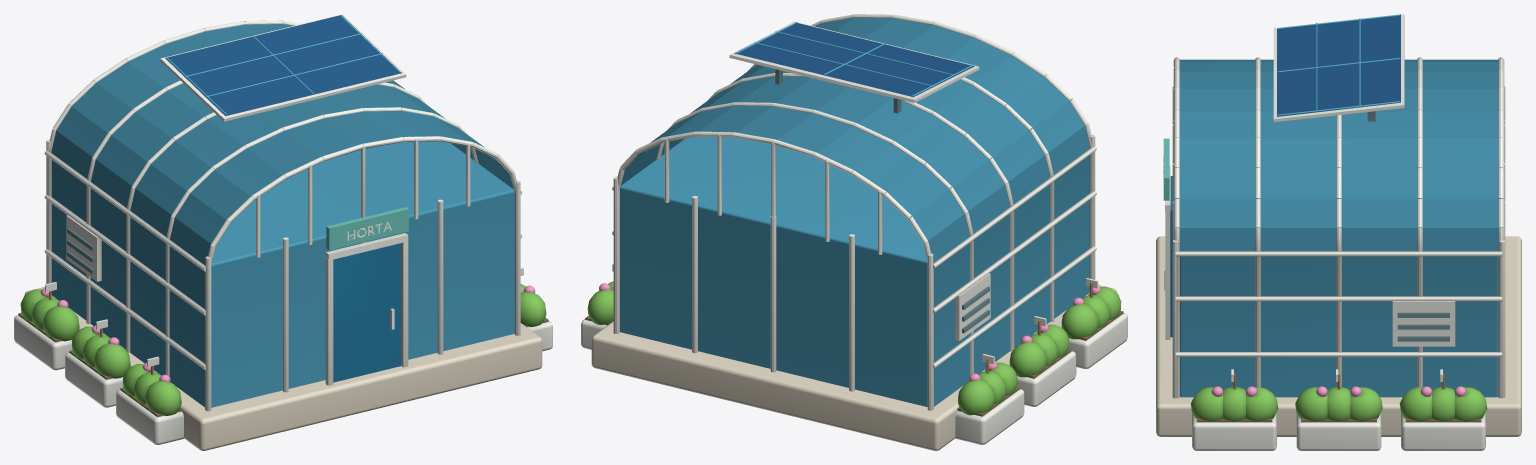
Rendered from greenhouse-low.glb.
3 views of the same model, side by side, from view 1: azimuth 30°, elevation 25°; view 2: azimuth 150°, elevation 25°; view 3: azimuth 270°, elevation 25° (orthographic). The views are drawn at different scales.
Visible parts, largest first — view 1: glasshouse, roof rib, greenhouse foundation, photovoltaic cells, greenhouse door, plant, botanical name board, vent slat; view 2: glasshouse, roof rib, greenhouse foundation, photovoltaic cells, plant, vent slat; view 3: glasshouse, roof rib, photovoltaic cells, greenhouse foundation, plant, vent slat, soil, flower, greenhouse door, botanical name board.
Boxes of the visible parts, bbox=[...] form: glasshouse: bbox=[51, 15, 514, 407]; roof rib: bbox=[14, 14, 552, 444]; greenhouse foundation: bbox=[24, 287, 542, 450]; photovoltaic cells: bbox=[165, 15, 401, 116]; greenhouse door: bbox=[333, 243, 400, 382]; plant: bbox=[20, 284, 546, 415]; botanical name board: bbox=[326, 207, 408, 250]; vent slat: bbox=[67, 228, 94, 274]; glasshouse: bbox=[620, 17, 1090, 406]; roof rib: bbox=[581, 14, 1127, 444]; greenhouse foundation: bbox=[591, 285, 1117, 450]; photovoltaic cells: bbox=[734, 23, 974, 96]; plant: bbox=[587, 281, 1121, 415]; vent slat: bbox=[775, 69, 989, 333]; glasshouse: bbox=[1179, 14, 1498, 397]; roof rib: bbox=[1163, 14, 1505, 450]; photovoltaic cells: bbox=[1277, 14, 1400, 116]; greenhouse foundation: bbox=[1156, 236, 1521, 436]; plant: bbox=[1190, 387, 1487, 421]; vent slat: bbox=[1367, 111, 1449, 341]; soil: bbox=[1196, 417, 1481, 422]; flower: bbox=[1211, 386, 1466, 396]; greenhouse door: bbox=[1170, 176, 1173, 337]; botanical name board: bbox=[1163, 138, 1169, 200].
Size of the model in its own units: 3.61 by 2.49 by 2.8.
